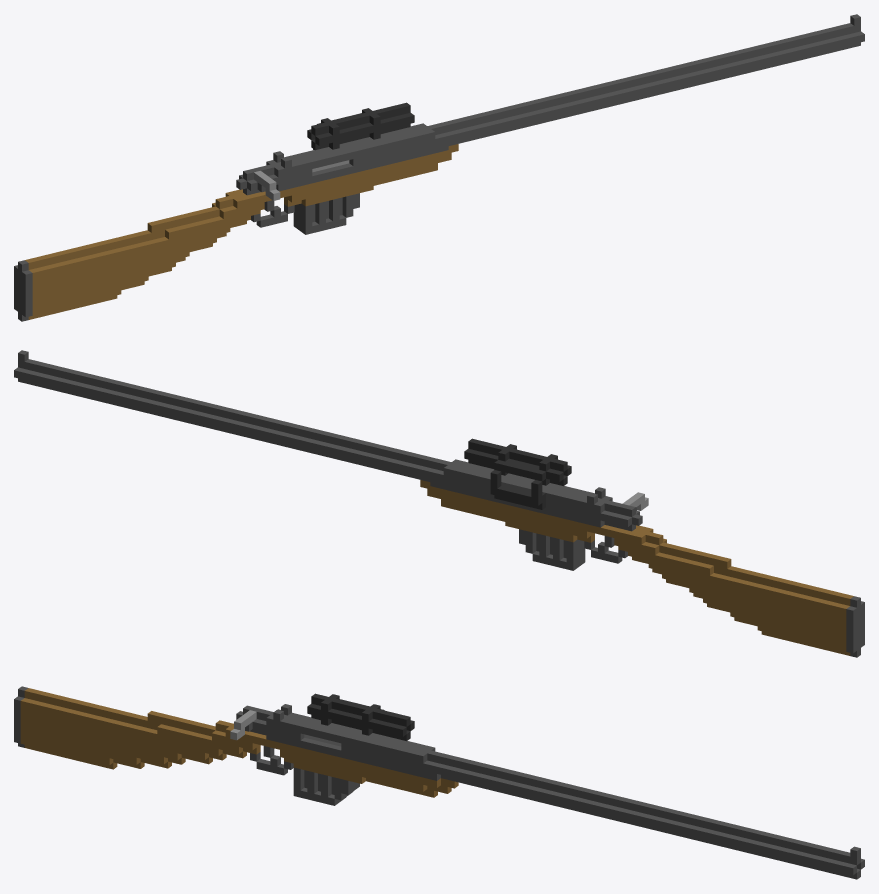
Rendered from Doom_sniper_rifle.obj.
3 renders of one model, top to bottom at view 1: azimuth 30°, elevation 25°; view 2: azimuth 150°, elevation 25°; view 3: azimuth 330°, elevation 25°, orthographic.
Size of the model in its own units: 12.3 by 1.7 by 0.9.
1 material, 1 textured.
